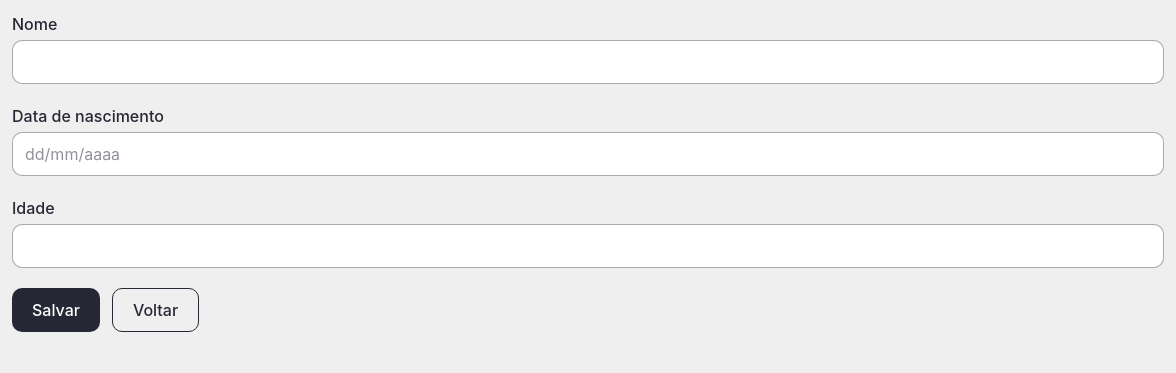
PessoaFormComponent › should require at least 2 characters in the name
Type "A" into the field labelled "Nome".
click(588, 62); type("A")  # box [12, 40, 1164, 84]
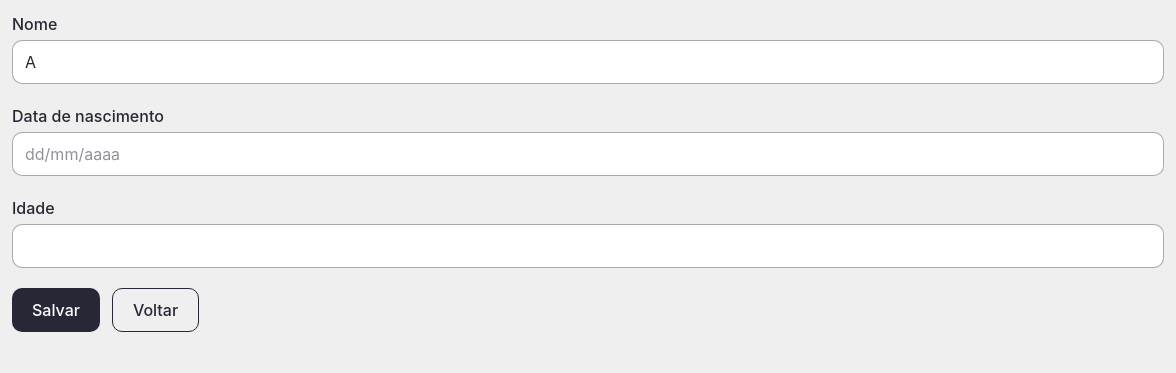
Leave the field labelled "Nome", box [12, 40, 1164, 84]
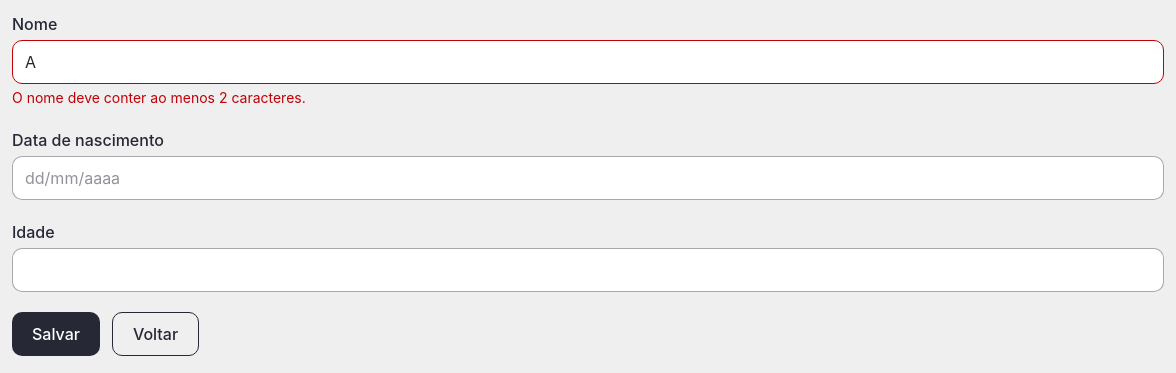
Expected: the text "O nome deve conter ao menos 2 caracteres." is shown, [12, 89, 306, 106]
Replace the text in the field labelled "Nome" with "  A " at (588, 62), box [12, 40, 1164, 84]
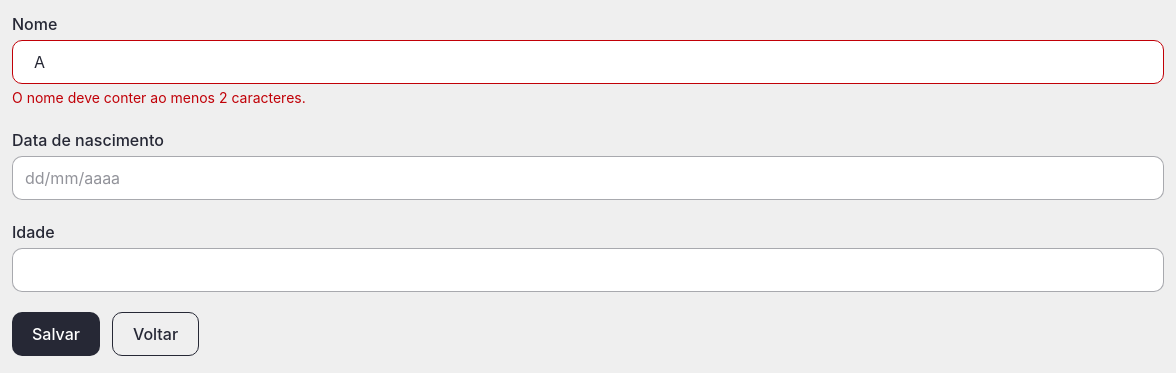
Expected: the text "O nome deve conter ao menos 2 caracteres." is shown, [12, 89, 306, 106]
Replace the text in the field labelled "Nome" with "Al" at (588, 62), box [12, 40, 1164, 84]
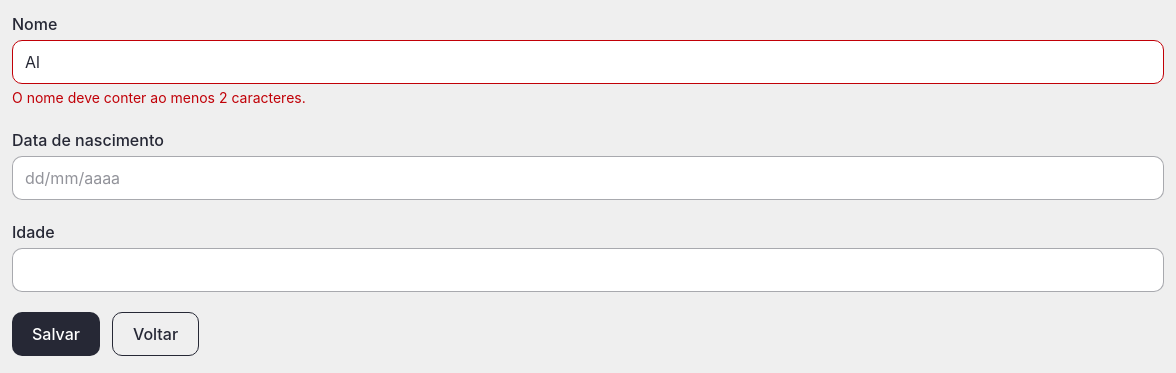
Leave the field labelled "Nome", box [12, 40, 1164, 84]
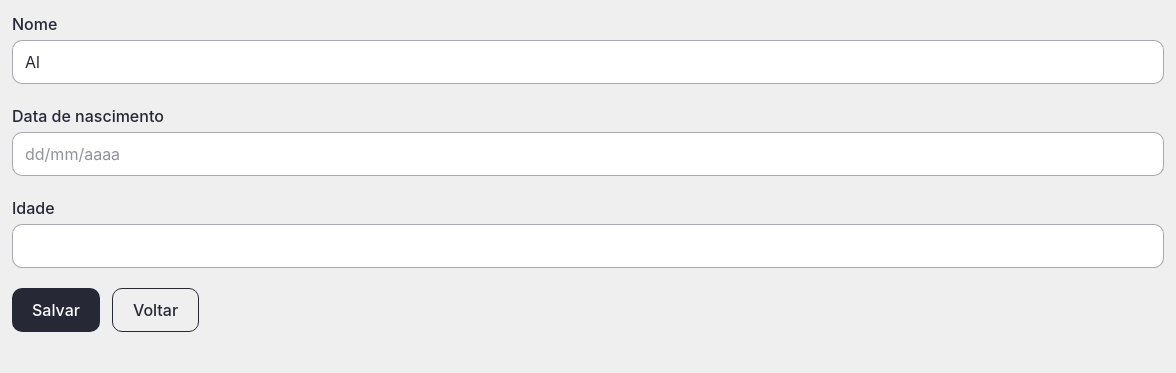
Expected: the text "O nome deve conter" is gone
